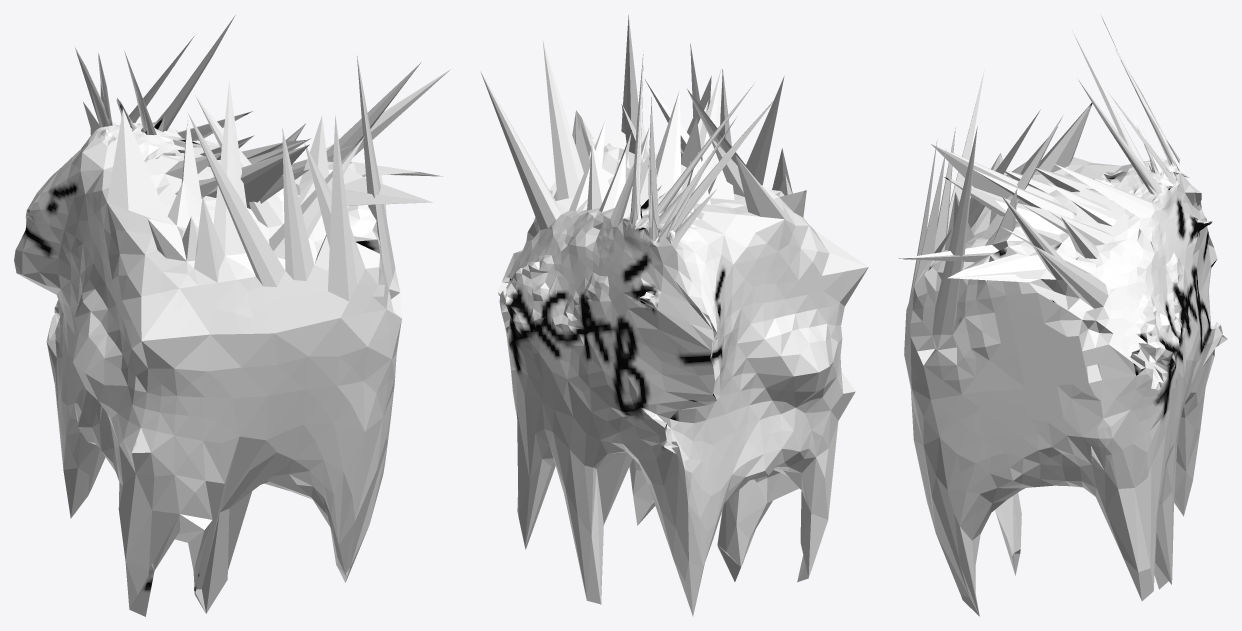
The model's file is hedgehog.glb.
The picture shows the model from 3 angles, left to right: view 1: azimuth 30°, elevation 25°; view 2: azimuth 150°, elevation 25°; view 3: azimuth 270°, elevation 25°; orthographic projection. The views are drawn at different scales.
Visible parts, largest first — view 1: Cube; view 2: Cube; view 3: Cube.
Boxes of the visible parts, x1,y1,x2,y2 form: Cube: [14, 15, 450, 616]; Cube: [480, 15, 868, 616]; Cube: [898, 15, 1227, 616].
Bounding box in the file's own units: 2.98 × 4.37 × 2.48.
1 material, 1 textured.
